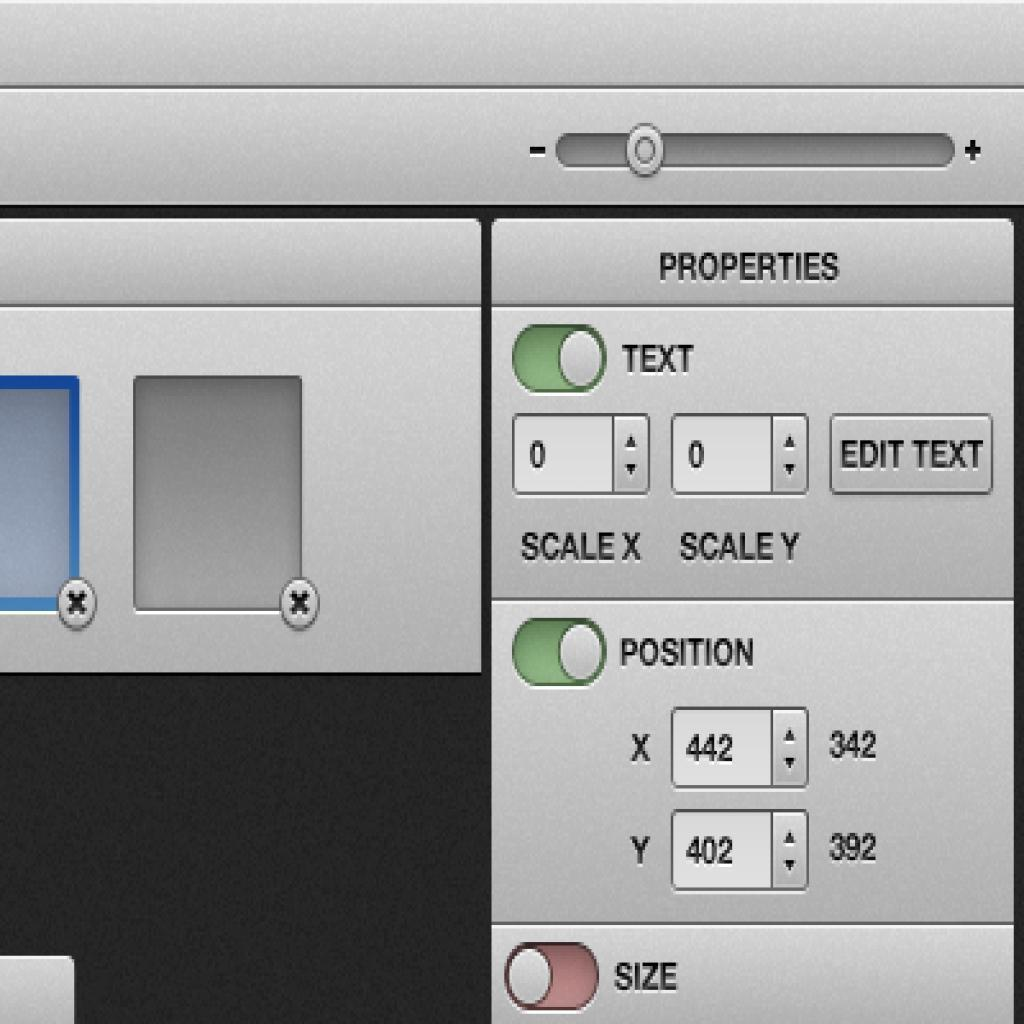button: (832, 417, 993, 496)
input: (674, 415, 774, 496), (672, 814, 774, 893), (512, 415, 611, 495), (674, 708, 771, 787)
slider: (524, 122, 994, 176)
switch: (502, 940, 603, 1011), (513, 322, 607, 393), (515, 620, 608, 686)
